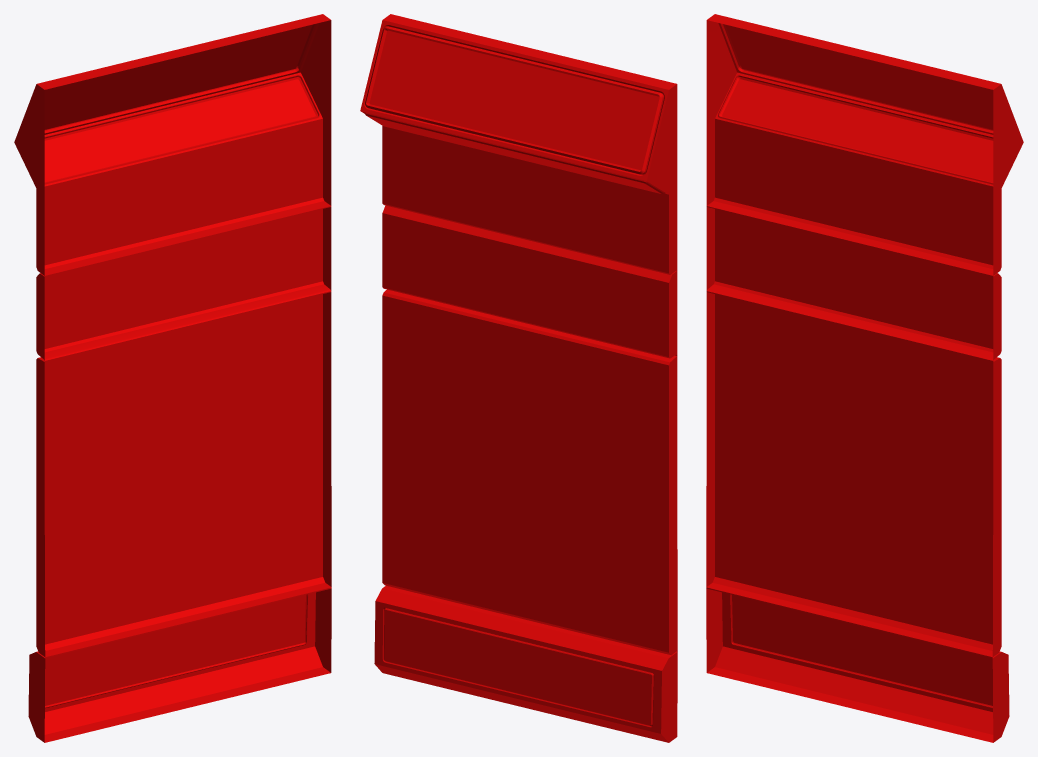
File: Wall_3.fbx
The picture shows the model from 3 angles, left to right: view 1: azimuth 30°, elevation 25°; view 2: azimuth 150°, elevation 25°; view 3: azimuth 330°, elevation 25°; orthographic projection.
Visible parts, largest first — view 1: L13:polySurface1; view 2: L13:polySurface1; view 3: L13:polySurface1.
Boxes of the visible parts, box(x1,y1,x2,y2) form: L13:polySurface1: box(14, 14, 331, 742); L13:polySurface1: box(360, 14, 677, 742); L13:polySurface1: box(706, 14, 1023, 742).
Bounding box in the file's own units: 349 × 761 × 65.43.
